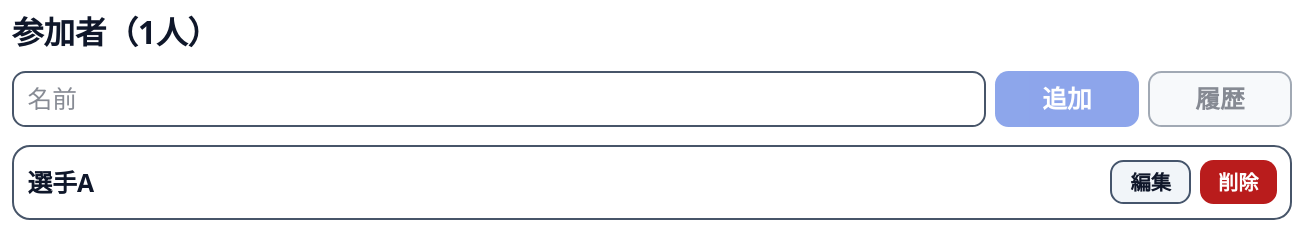
Test: ParticipantsTab › 編集キャンセルで元の名前のまま
Click the button "編集" at [1151, 182], box x1=1110 y1=160 x2=1191 y2=204
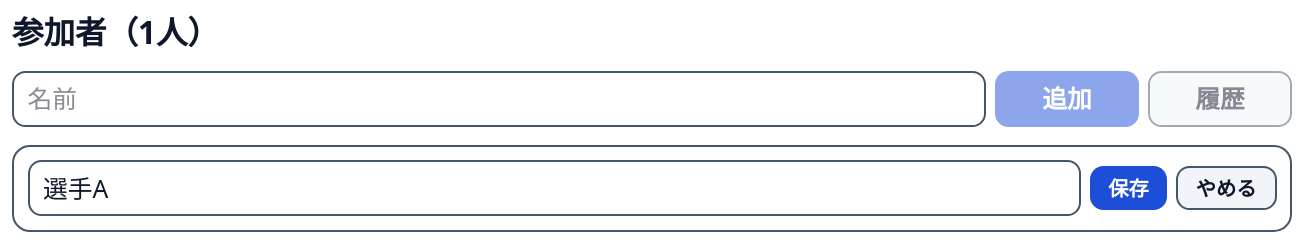
Replace the text in the field named "参加者名を編集" with "選手Z" at [554, 188], box x1=28 y1=160 x2=1081 y2=216
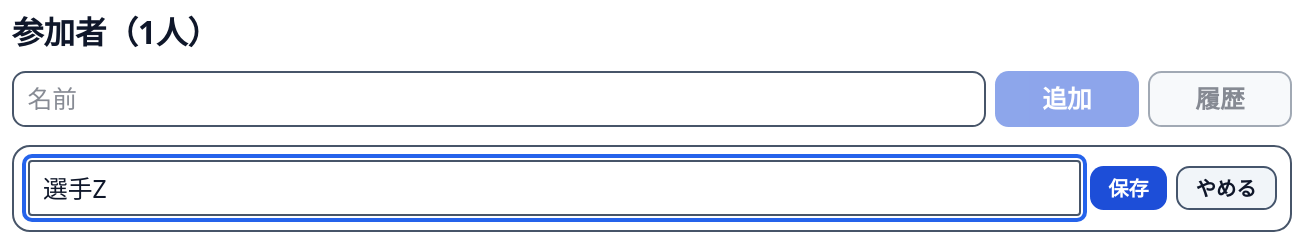
キャンセル（やめる）
Click the button "やめる" at [1226, 188], box x1=1176 y1=166 x2=1276 y2=210
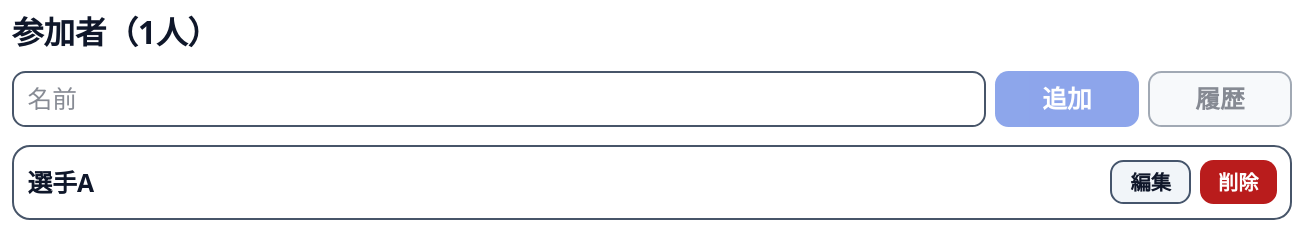
Expected: the text "選手Z" is not shown
Result: the text "選手A" is shown at x1=28 y1=166 x2=94 y2=199
